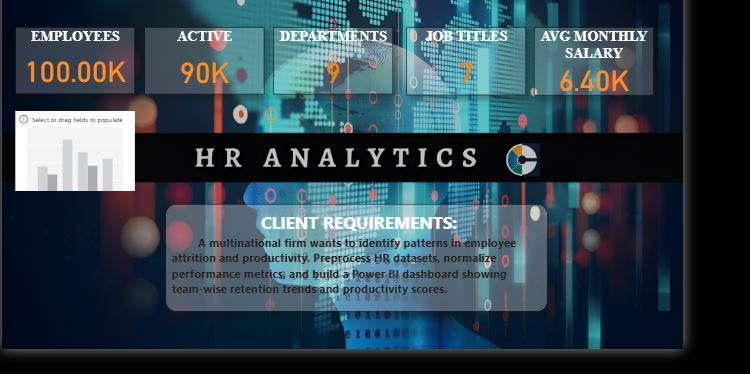

This screenshot's page, from the dashboard's own definition file:
{"tool":"powerbi","page":{"name":"Summary","canvas":[1280,720],"ordinal":0},"visuals":[{"type":"card","title":"EMPLOYEES","fields":{"Values":["CountNonNull(cleaned_HR_analytics.Employee_ID)"]},"box":[24.8,115.2,224.7,125.3],"z":0},{"type":"card","title":"ACTIVE ","fields":{"Values":["cleaned_HR_analytics.Active Employees"]},"box":[267.6,115.2,225.8,126.5],"z":1000},{"type":"card","title":"DEPARTMENTS","fields":{"Values":["Count(cleaned_HR_analytics.Department)"]},"box":[509.2,115.2,224.7,126.5],"z":2000},{"type":"card","title":"AVG MONTHLY SALARY","fields":{"Values":["Avg(cleaned_HR_analytics.Monthly_Salary)"]},"box":[999.3,115.2,224.7,128.7],"z":3000},{"type":"card","title":"JOB TITLES","fields":{"Values":["Count(cleaned_HR_analytics.Job_Title)"]},"box":[761,115.2,224.7,127.6],"z":4000},{"type":"textbox","box":[308.3,448.3,718.1,202.1],"z":5000}]}

Visuals, with their boxes on the page's 1280x720 design canvas (x1, y1, x2, y2). These are canvas units, not pixel positions in the 750x374 screenshot, which may show the page scaled, cropped or inside an application window:
"EMPLOYEES" card: bbox=[25, 115, 250, 240]
"ACTIVE " card: bbox=[268, 115, 493, 242]
"DEPARTMENTS" card: bbox=[509, 115, 734, 242]
"AVG MONTHLY SALARY" card: bbox=[999, 115, 1224, 244]
"JOB TITLES" card: bbox=[761, 115, 986, 243]
textbox: bbox=[308, 448, 1026, 650]
